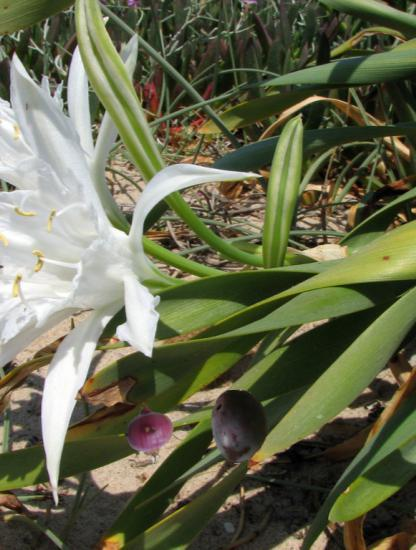Onion: (115, 402, 185, 472)
Plum: (203, 390, 277, 464)
